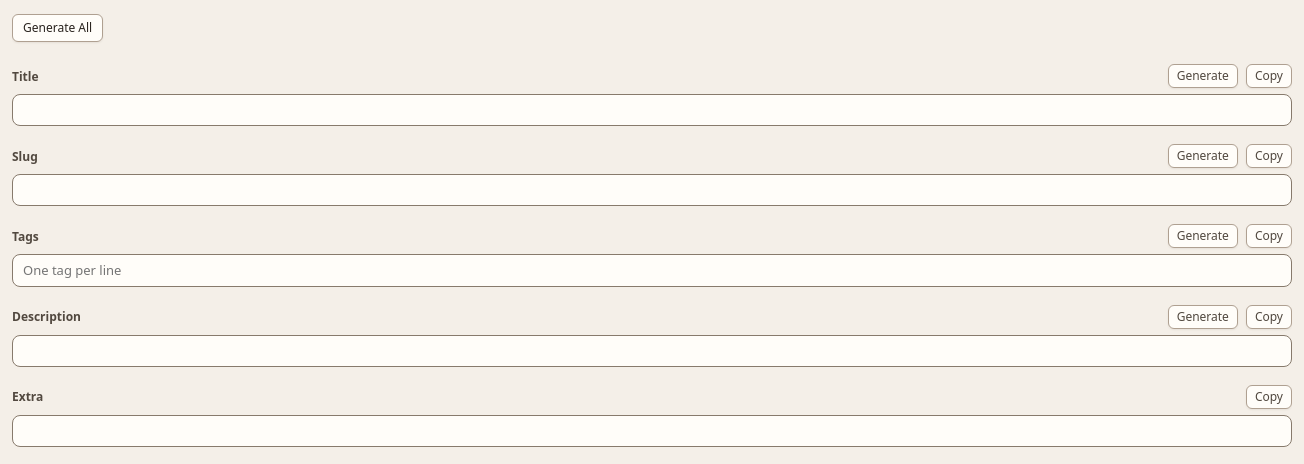
it: MetadataTab generation keeps what the user typed › Generate All fills only the fields left untouched while it ran
Click the button with class "btn-generate-all": (58, 28) [12,14,103,42]
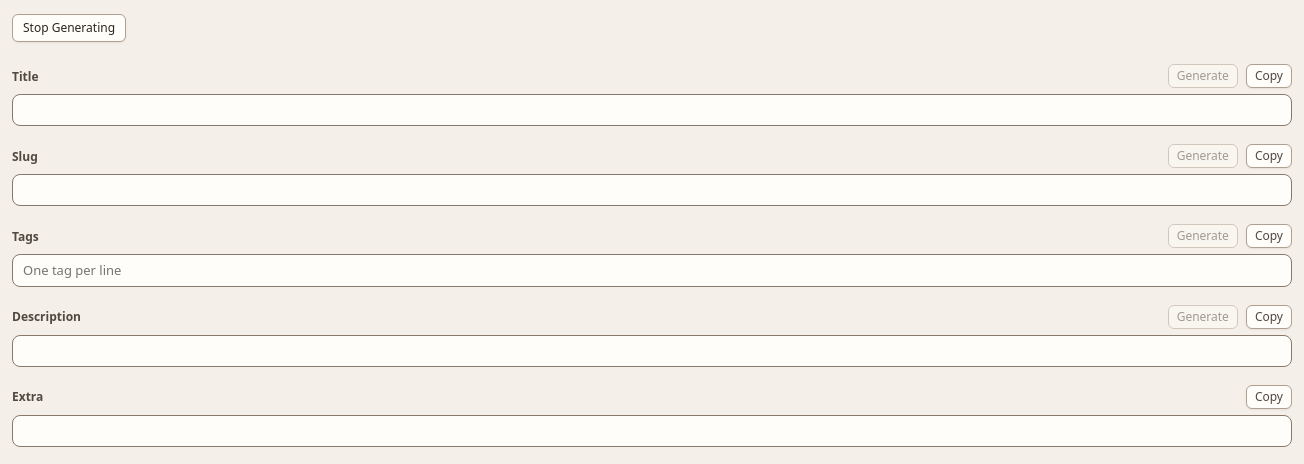
In the text box labelled "Title": (652, 110) [12,94,1292,126], type "My Own Title"
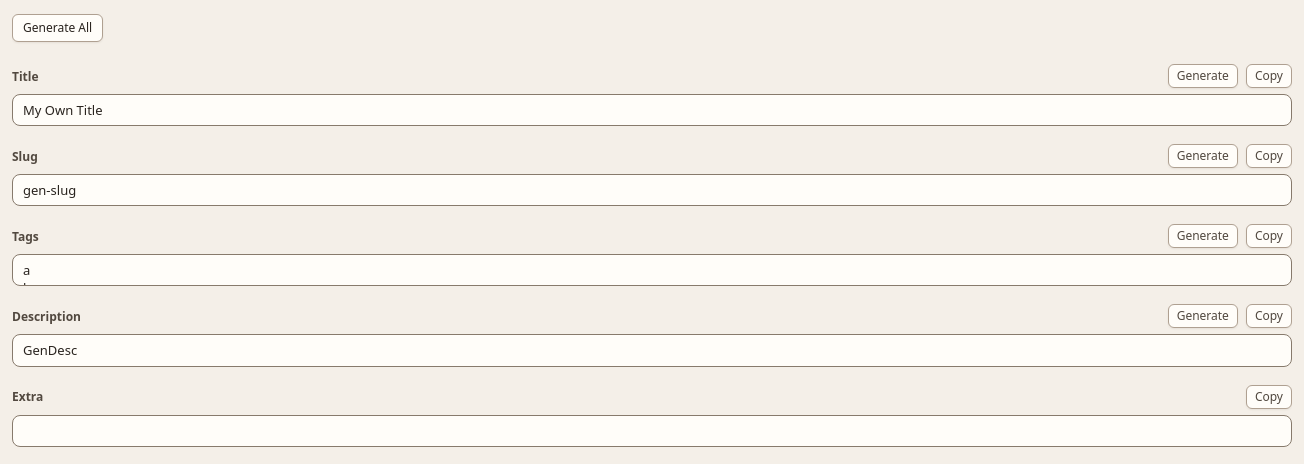
Expected: the text box labelled "Slug" holds "gen-slug", [12,174,1292,206]
